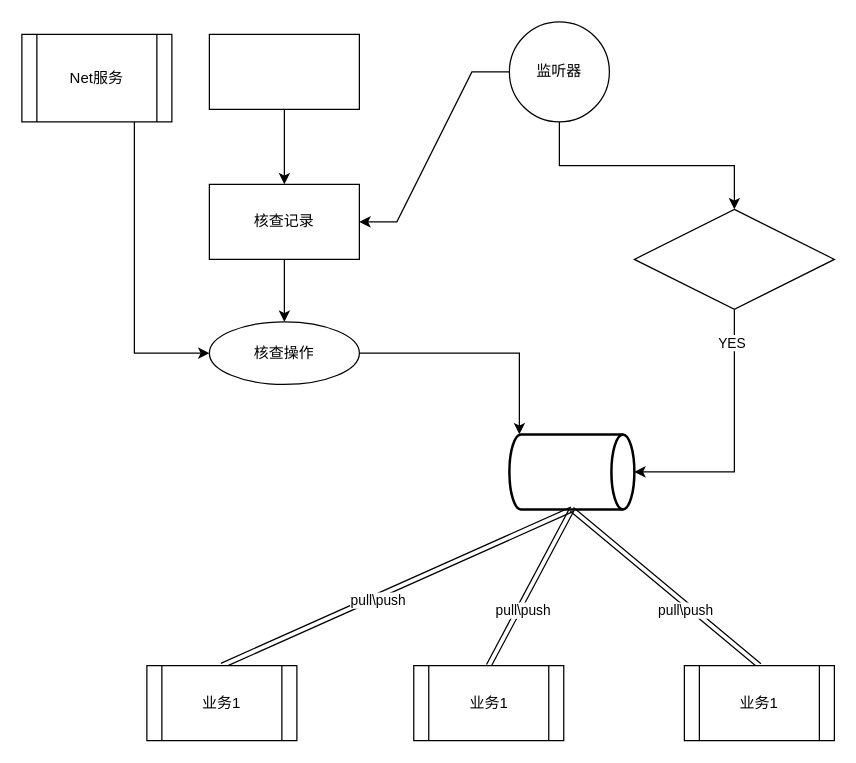
Image size: 856x763. Some labels were removed from this diagram. The shapes that lost their labels are listed below. From the top down, each one's centre as x and y in pixels, then its label:
At (x=283, y=71): "举报记录".
At (x=733, y=258): "是否满足自动触发处理规则".
At (x=571, y=471): "MQ".
